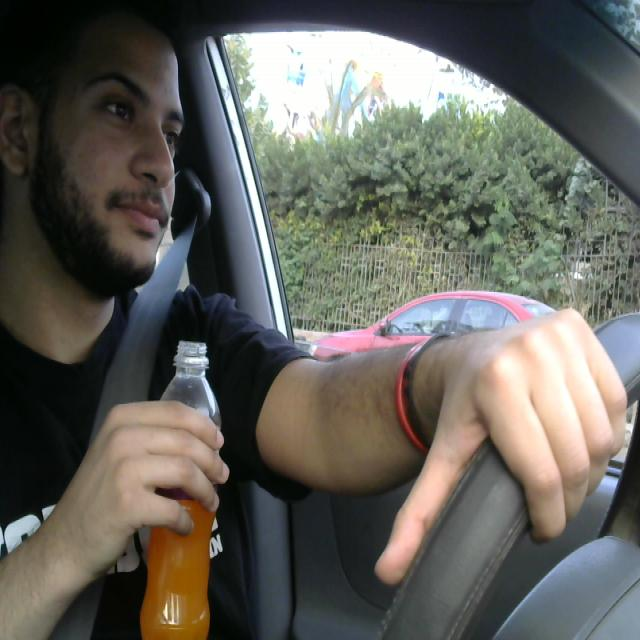drinking: (134, 343, 230, 640)
